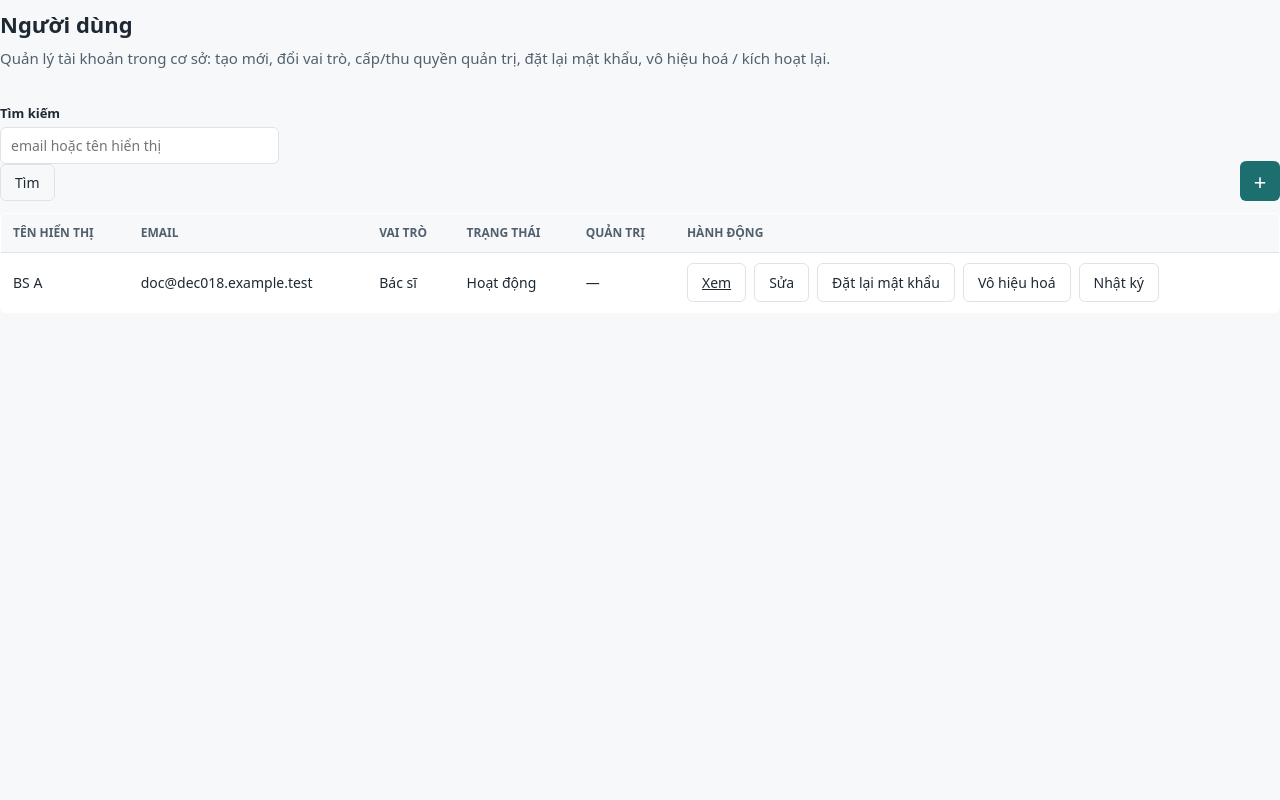
Test: UsersPage (DEC-018 T5) › opens the create modal from "+", creates a user, closes the form and shows the one-time temp password
This screenshot has width=1280, height=800.
Expected: the text "doc@dec018.example.test" is shown, [129,252,367,312]
Step 1. Click the button named "Thêm người dùng" → (1260, 181), box [1240,161,1279,201]
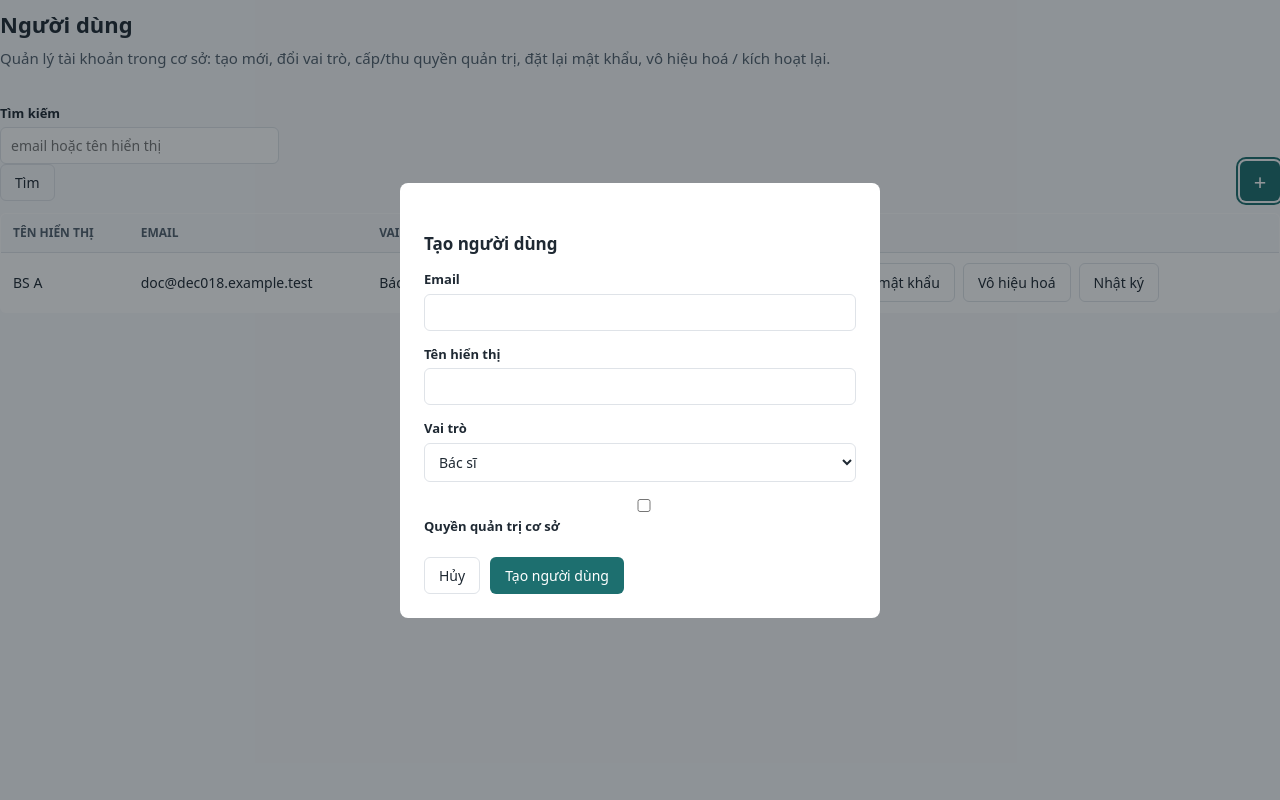
Step 2. Type "new@dec018.example.test" into the field labelled "Email" → (640, 312), box [424,294,856,330]
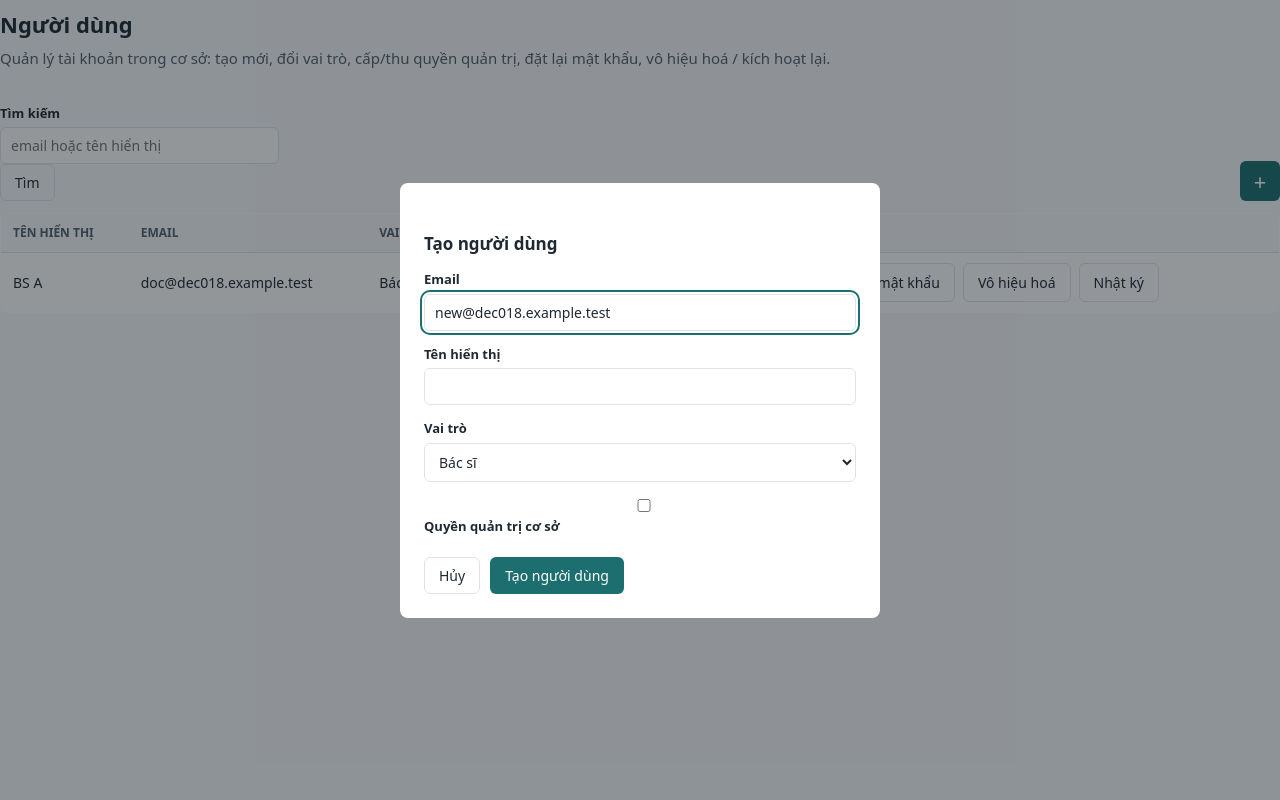
Step 3. Click the button "Tạo người dùng" → (557, 575), box [490,556,624,594]
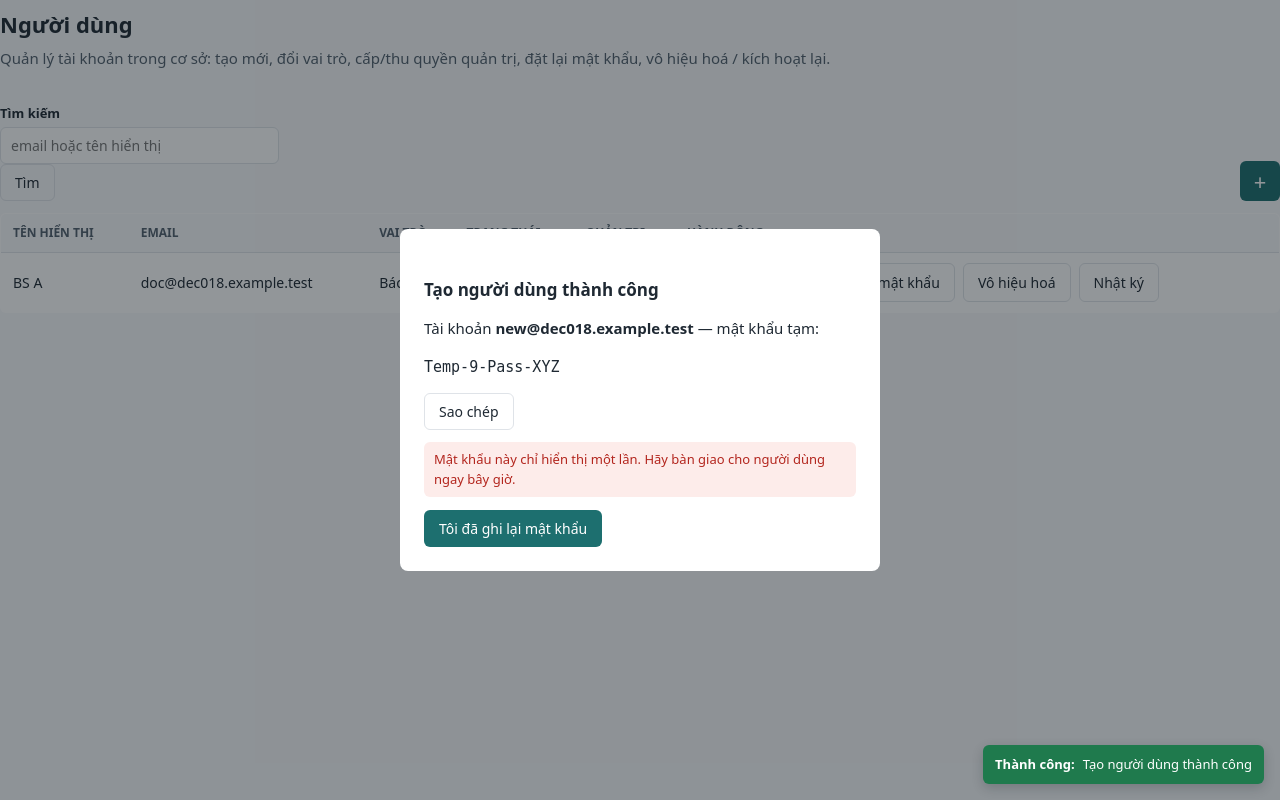
Result: the text with test id "temp-password" reads "Temp-9-Pass-XYZ" at [424,358,560,376]
